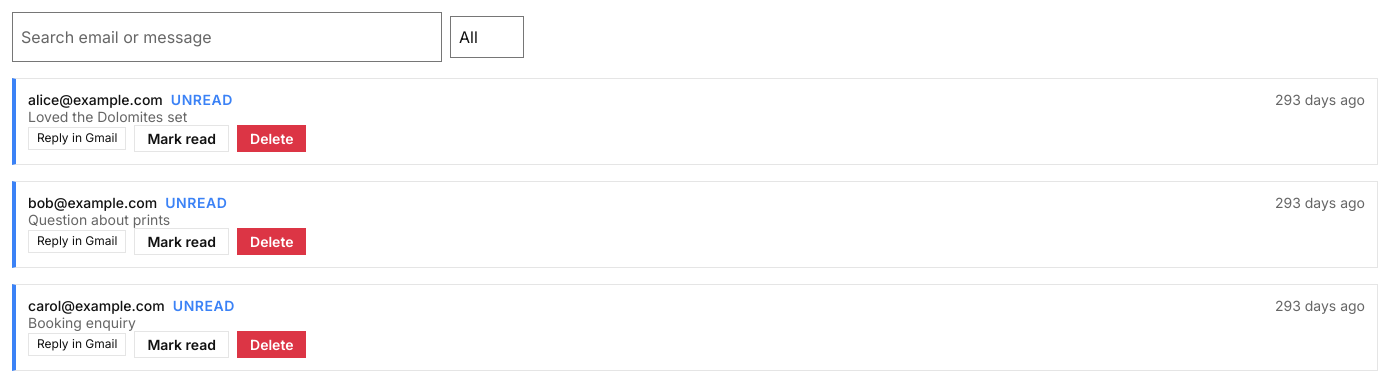
Test case: CommentsList — server-side search › shows an empty state naming the query when the backend returns nothing
The image size is (1378, 388).
Type "zzzz" into the search field named "search messages" at (227, 37), box [12,12,442,62]
Wait 300 ms
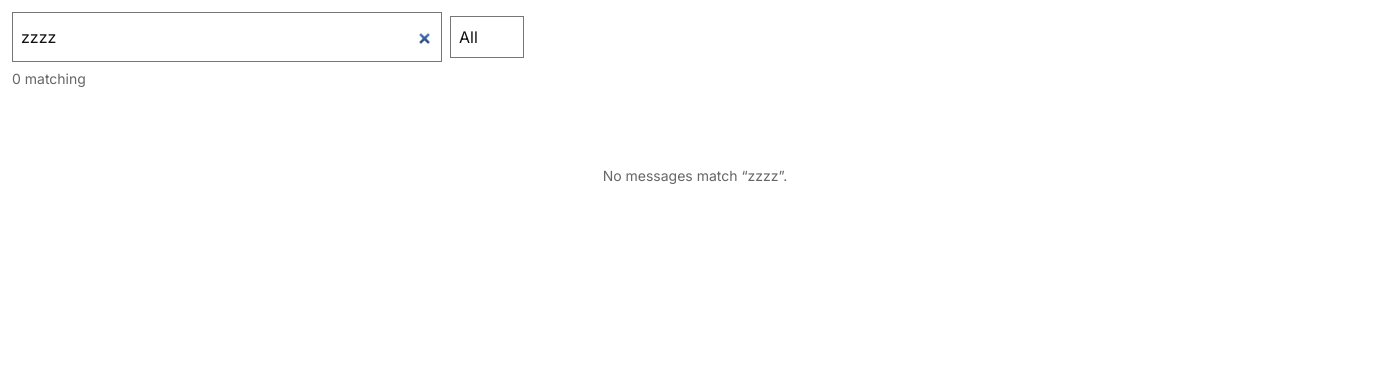
Expected: the text "No messages match “zzzz”." is shown, [603,167,787,184]
